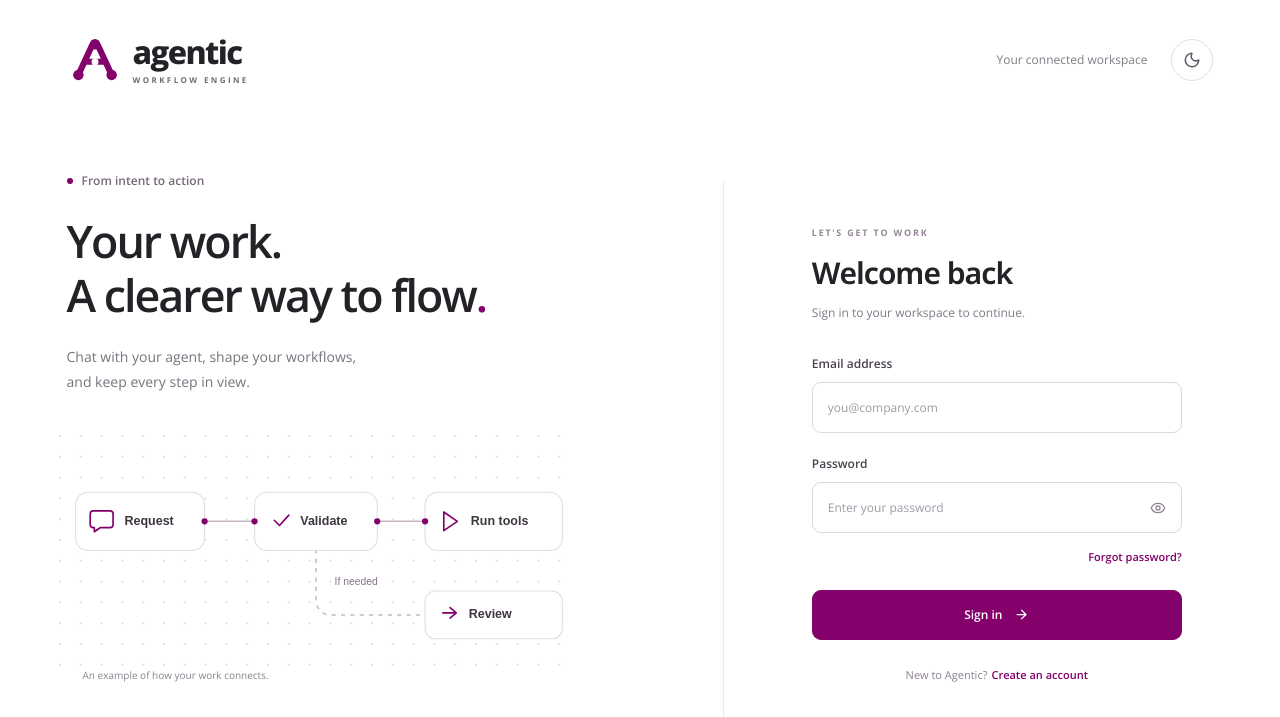
Test: sign-in keeps the existing credentials contract and prevents duplicate submissions
Type "demo@example.test" into the field labelled "Email address".
click(997, 408); type("demo@example.test")  # box top-left (812, 382), bottom-right (1182, 433)
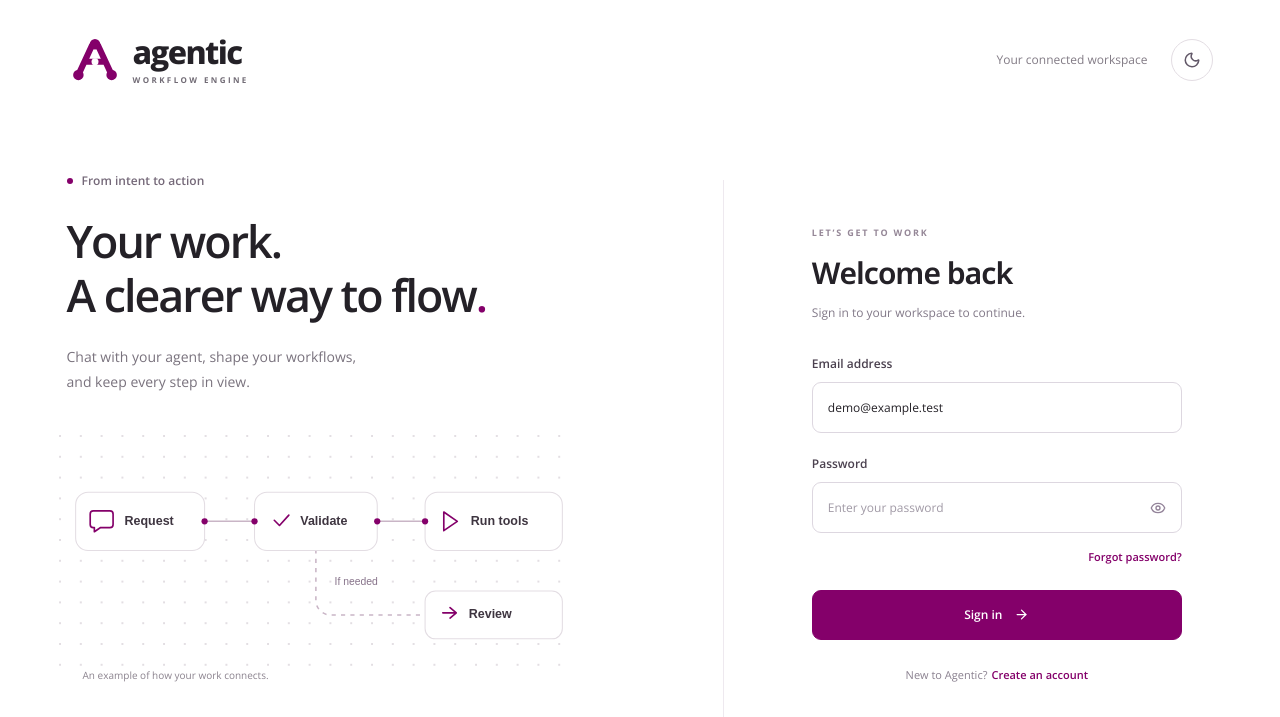
Type "synthetic-demo-password" into the password field labelled "Password".
click(997, 508); type("synthetic-demo-password")  # box top-left (812, 482), bottom-right (1182, 533)
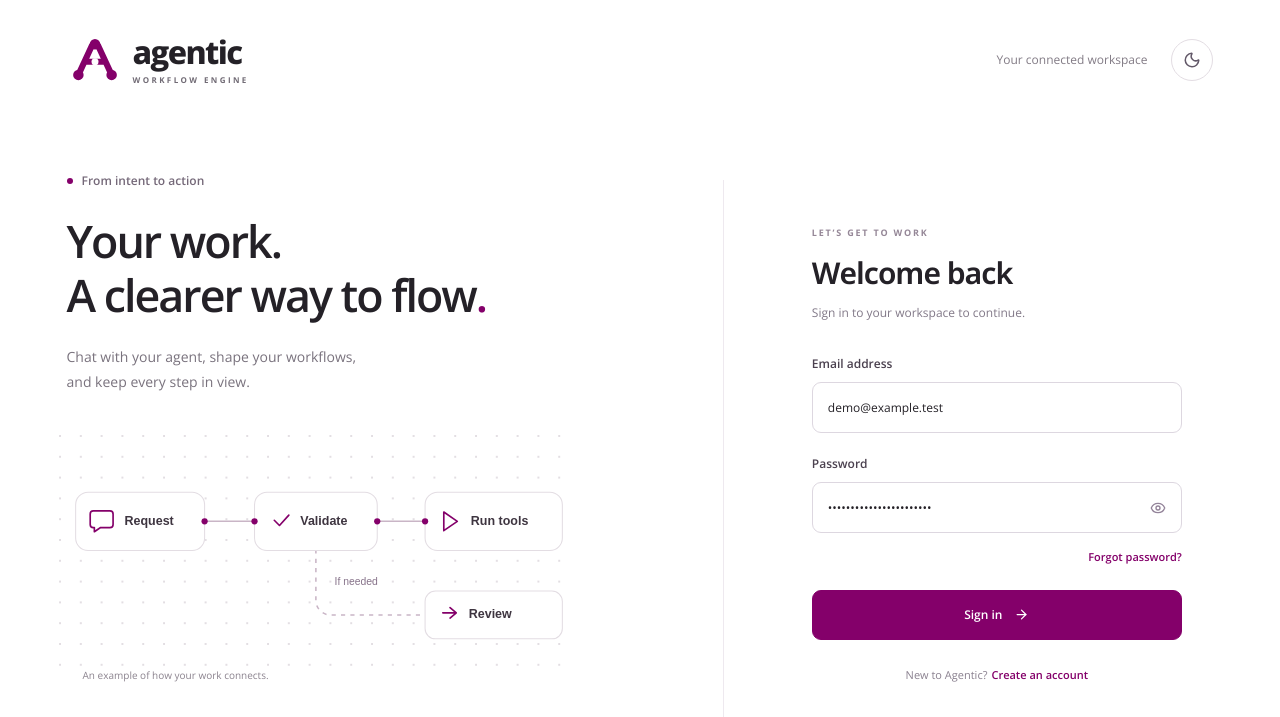
Click the button "Sign in".
click(997, 615)  # box top-left (812, 590), bottom-right (1182, 640)
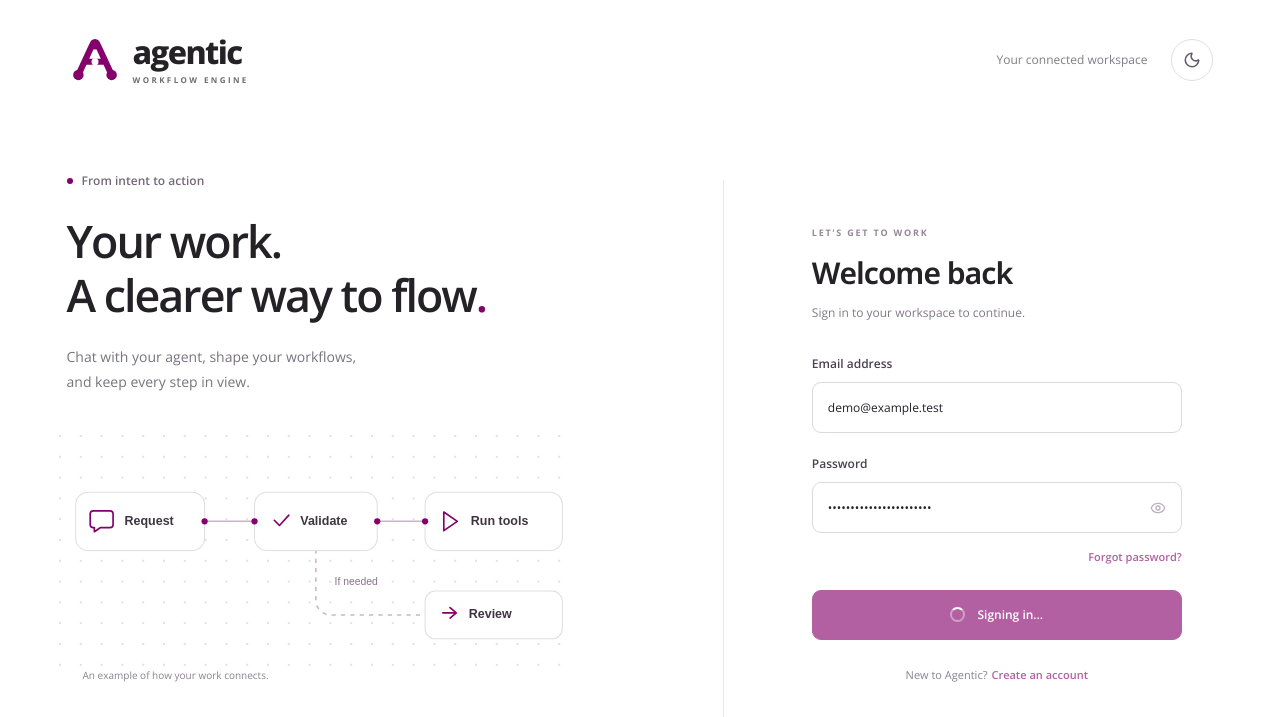
Check: the button "Signing in…" is disabled, box top-left (812, 590), bottom-right (1182, 640)
Submit the form, box top-left (812, 355), bottom-right (1182, 685)
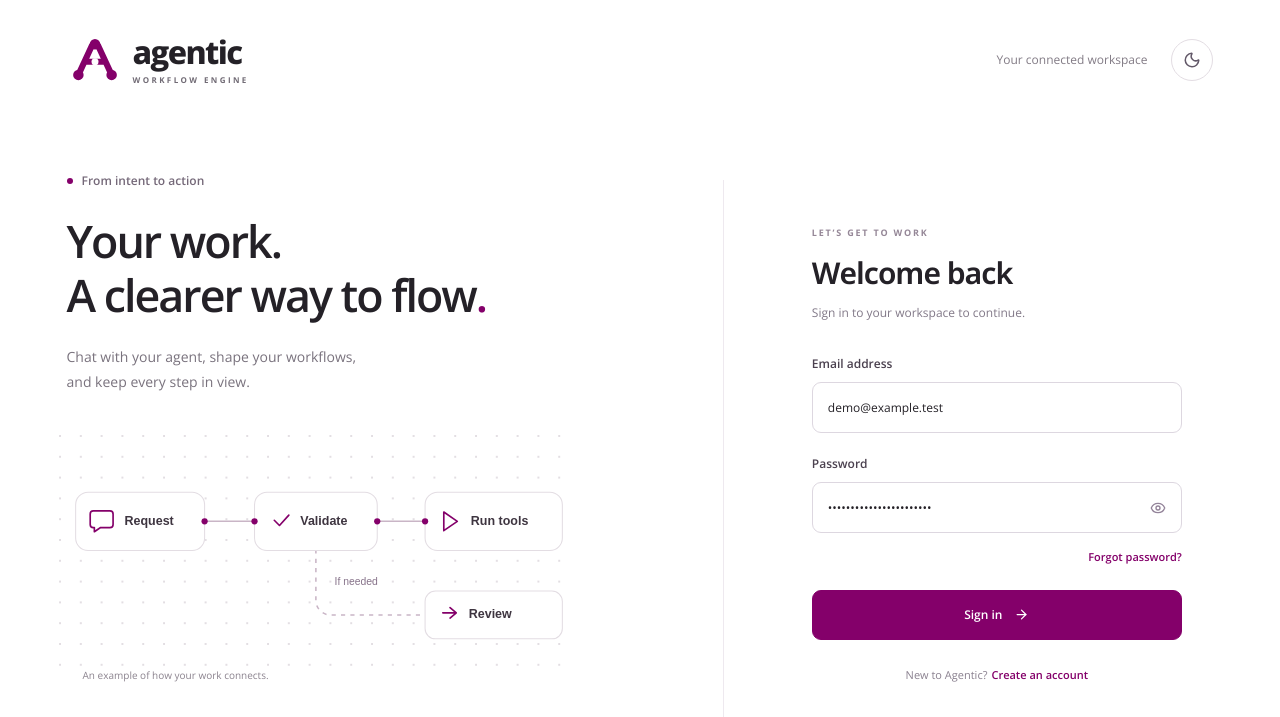
Check: the button "Sign in" is enabled, box top-left (812, 590), bottom-right (1182, 640)
